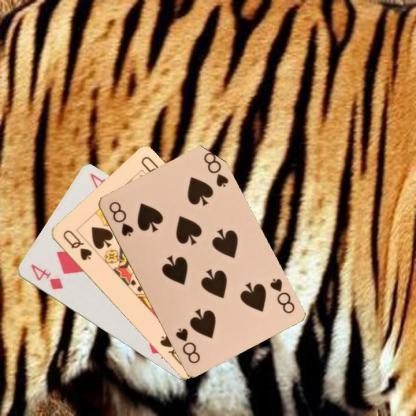4d: (28, 261, 64, 291)
8s: (266, 275, 296, 315), (106, 198, 134, 238)
Qs: (60, 227, 93, 262)
